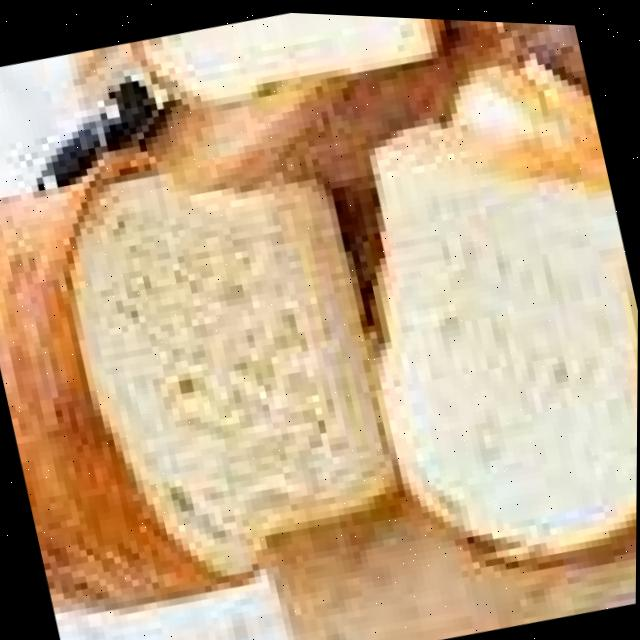Bread: (372, 55, 638, 536), (74, 171, 392, 568), (127, 10, 436, 98)
